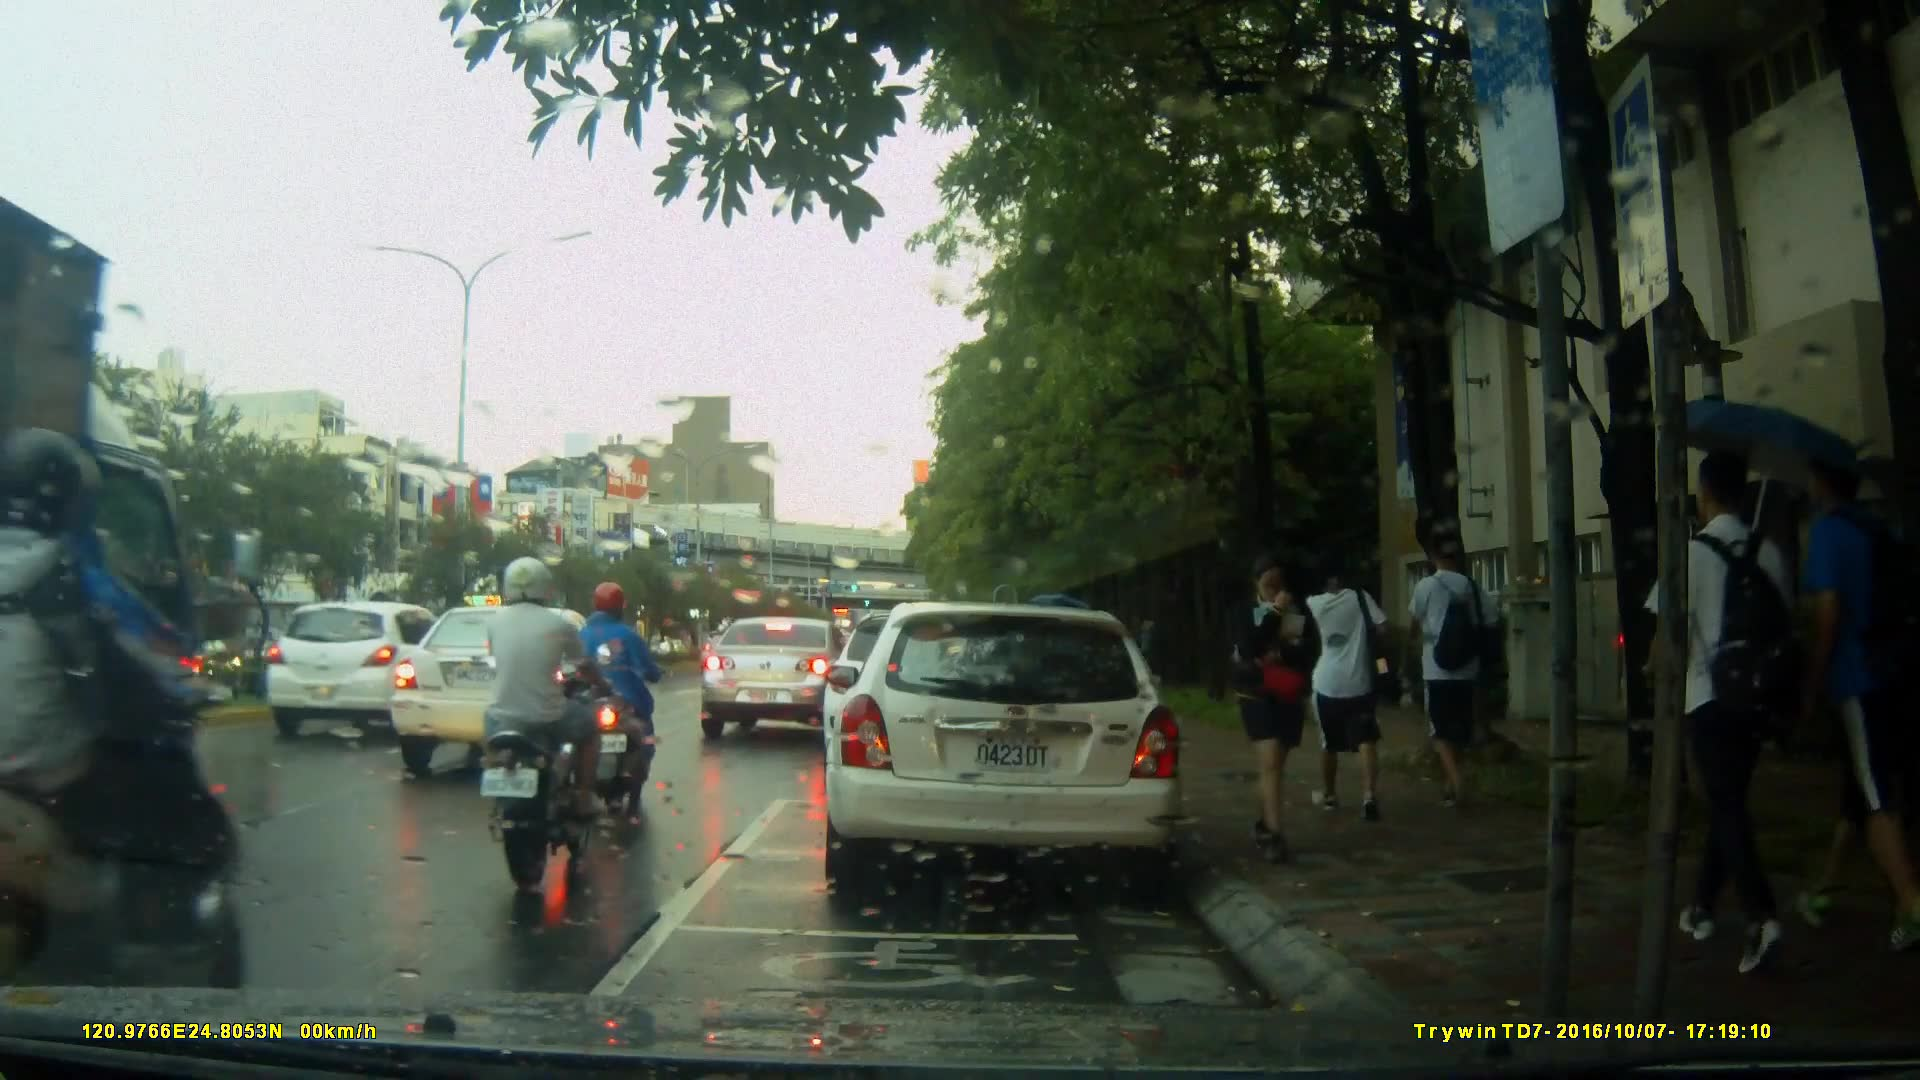pedestrian: (1753, 413, 1908, 951), (1628, 430, 1775, 957), (1395, 519, 1497, 825), (1231, 557, 1325, 861), (1294, 556, 1377, 825)
rider: (1, 430, 256, 1059), (482, 551, 608, 874), (573, 583, 674, 805)
vehicle: (820, 602, 1188, 898), (382, 603, 648, 782), (263, 599, 471, 742), (697, 614, 874, 742)
